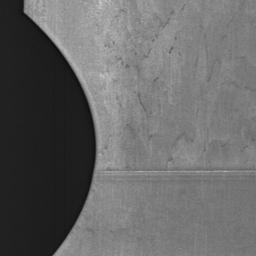Crescent gap: (24, 13, 96, 256)
